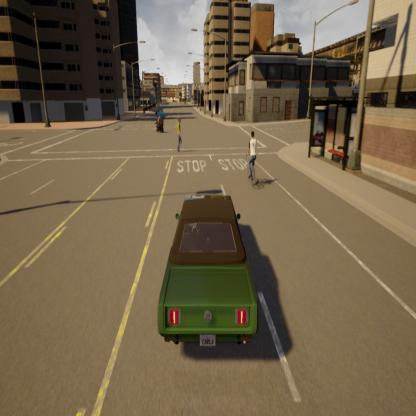Cars: (153, 186, 266, 360), (154, 104, 166, 121)
Pedestrian: (171, 112, 186, 158)
